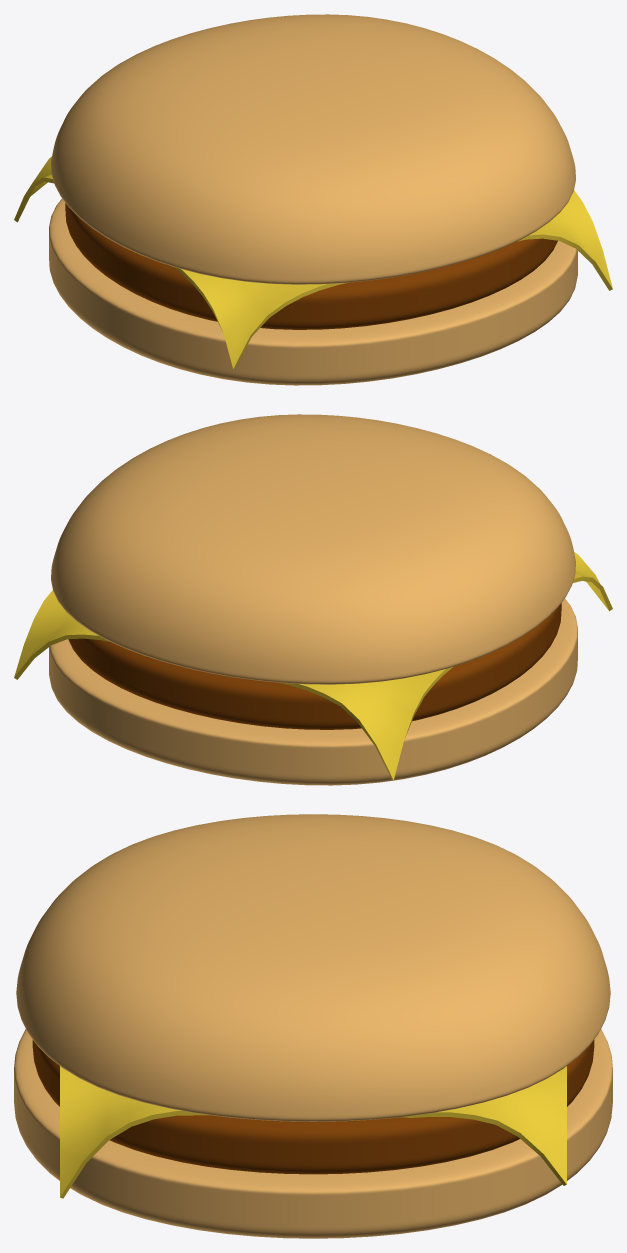
File: hamburger.glb
3 renders of one model, top to bottom at view 1: azimuth 30°, elevation 25°; view 2: azimuth 150°, elevation 25°; view 3: azimuth 270°, elevation 25°, orthographic. The views are drawn at different scales.
Visible parts, largest first — view 1: Cube.002, Cube, Cube.001, Plane; view 2: Cube.002, Cube, Cube.001, Plane; view 3: Cube.002, Cube, Cube.001, Plane.
Boxes of the visible parts, box(x1,y1,x2,y2) form: Cube.002: box(51, 14, 575, 284); Cube: box(49, 198, 577, 385); Cube.001: box(65, 203, 557, 329); Plane: box(14, 156, 612, 369); Cube.002: box(51, 414, 575, 684); Cube: box(49, 598, 577, 785); Cube.001: box(68, 603, 561, 729); Plane: box(14, 552, 612, 780); Cube.002: box(16, 814, 610, 1121); Cube: box(14, 1029, 612, 1238); Cube.001: box(32, 1040, 594, 1174); Plane: box(60, 1066, 566, 1198).
Bounding box in the file's own units: 9.27 × 4.27 × 9.27.
